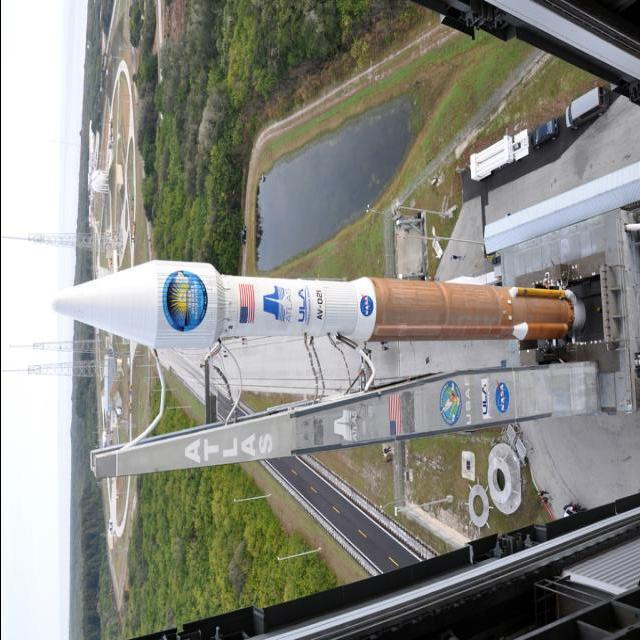missile: (54, 262, 581, 353)
